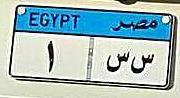1: (44, 39, 57, 73)
seen: (130, 50, 155, 77), (107, 49, 129, 75)
